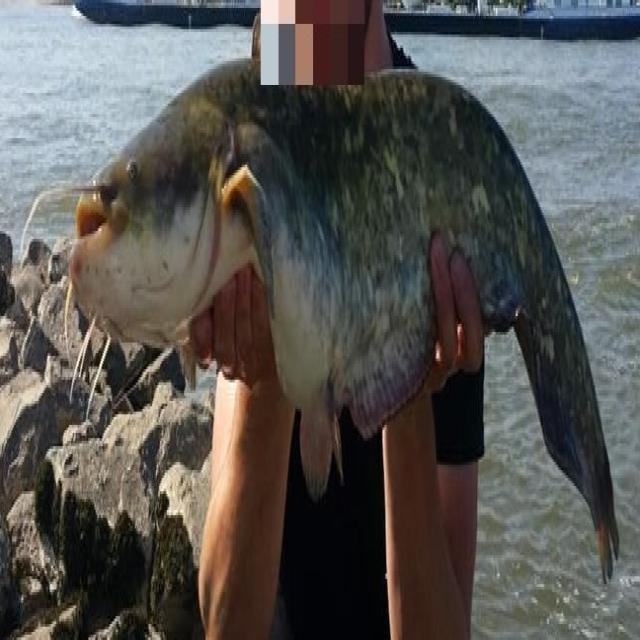Catfish: (51, 48, 629, 595)
